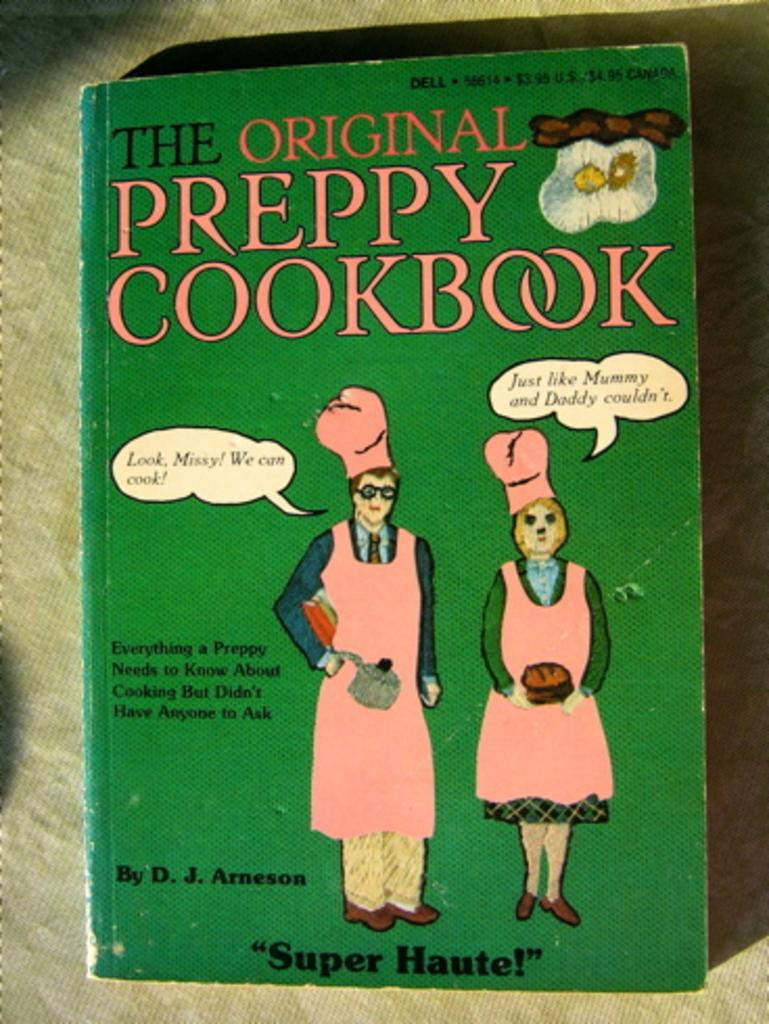book: (73, 42, 717, 999)
